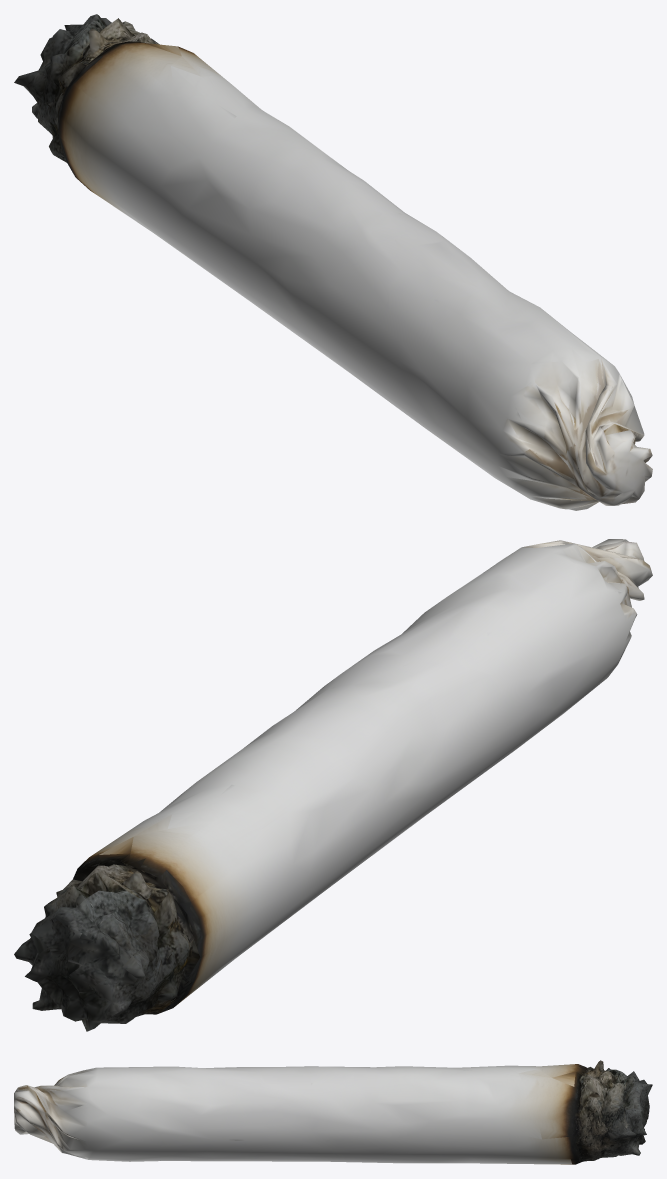
File: Model_Cigarette.glb
3 renders of one model, top to bottom at view 1: azimuth 30°, elevation 25°; view 2: azimuth 150°, elevation 25°; view 3: azimuth 270°, elevation 25°, orthographic. The views are drawn at different scales.
Visible parts, largest first — view 1: Cigarette; view 2: Cigarette; view 3: Cigarette.
Part boxes in pixels (x1,y1,x2,y2): Cigarette: (14,14,652,510); Cigarette: (14,539,652,1031); Cigarette: (14,1060,652,1164).
Bounding box in the file's own units: 0.0139 × 0.0144 × 0.0901.
Materials: 1 (1 with a texture image).
